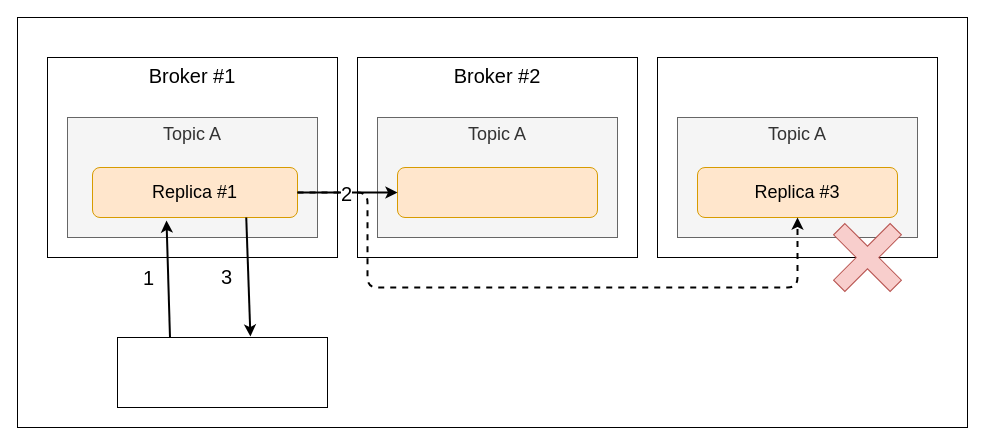
Some shapes in this 985 by 445 pixel diagram are drawn without their labels. Here are the shapes that lost their labels. From the top down, the box of each, then its label:
(656, 56, 938, 258): Broker #3
(396, 166, 598, 218): Replica #2
(116, 336, 328, 408): Producer
